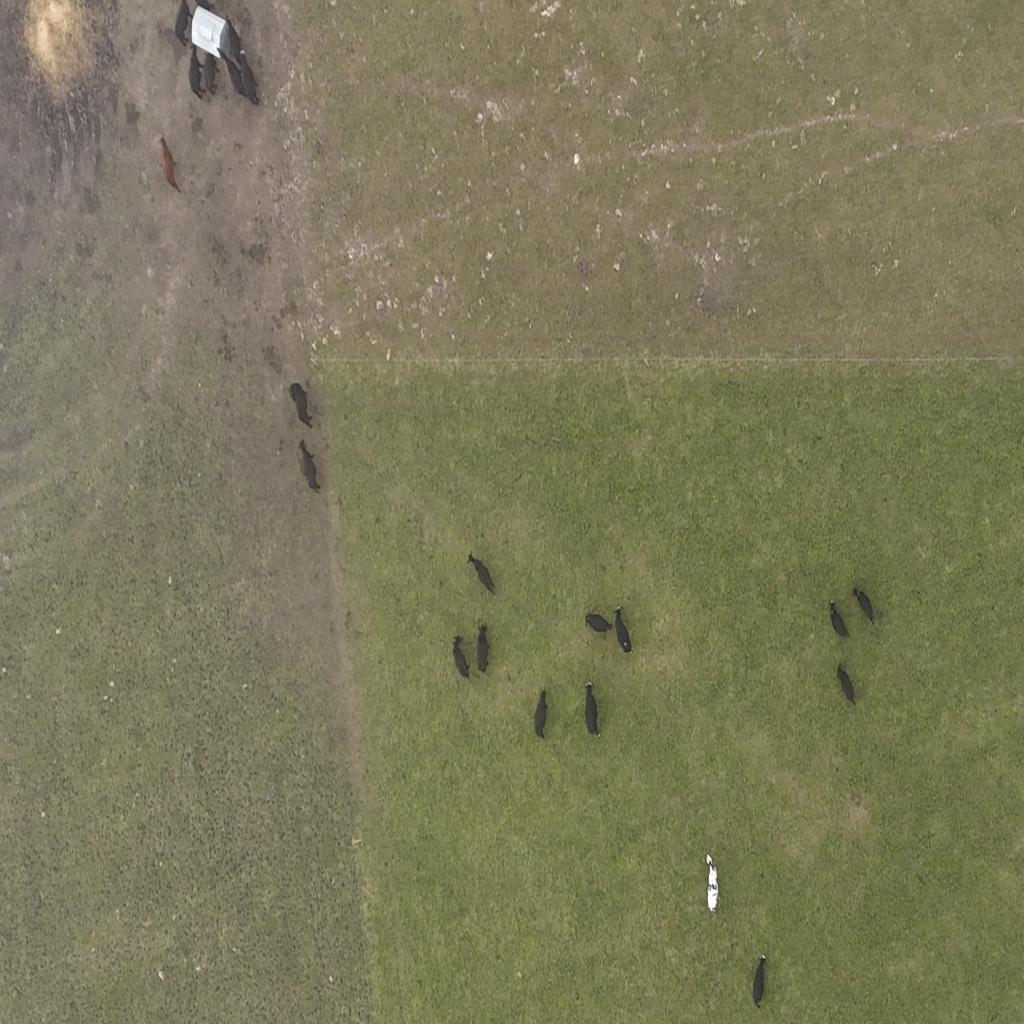cow: (228, 47, 260, 106), (466, 552, 496, 598), (158, 133, 180, 193), (289, 382, 314, 431), (298, 438, 320, 493), (223, 50, 247, 100), (614, 604, 636, 658), (834, 657, 857, 707), (850, 584, 876, 627), (188, 44, 207, 102), (584, 607, 612, 642), (751, 953, 768, 1010), (173, 0, 192, 49), (706, 852, 720, 916), (584, 684, 600, 740), (829, 598, 850, 639), (453, 635, 471, 682), (533, 686, 548, 742), (476, 621, 490, 674), (202, 49, 217, 96), (224, 13, 242, 52)
